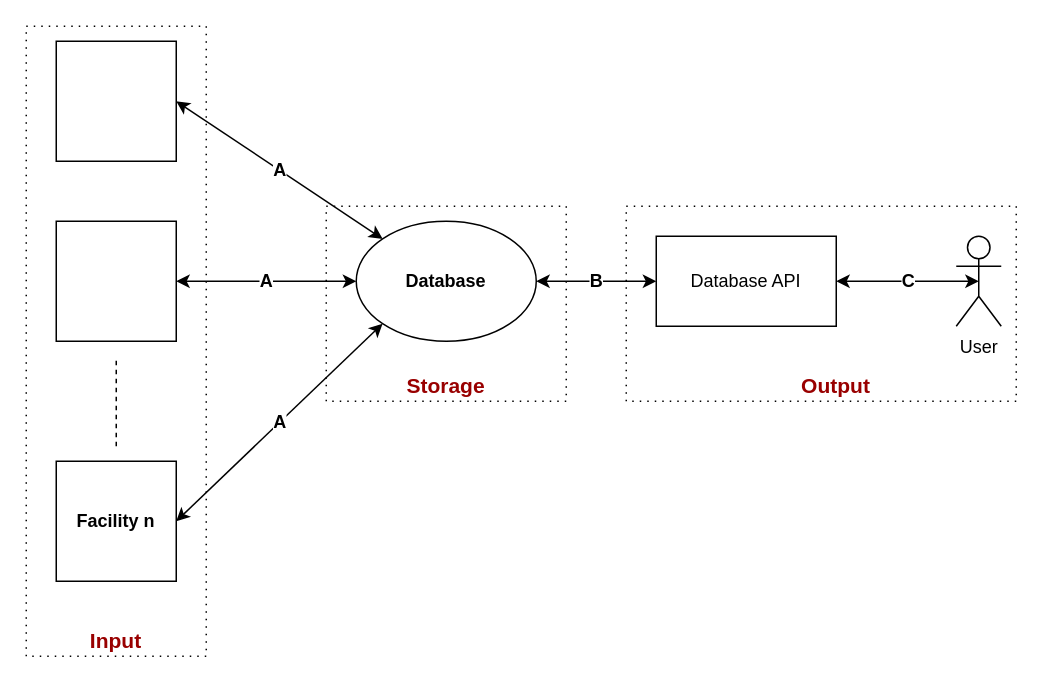
Some shapes in this 1043 by 690 pixel diagram are drawn without their labels. Here are the shapes that lost their labels. From the top down, the centre of each, then its label:
At [115,100]: "Facility 1".
At [115,280]: "Facility 2".
